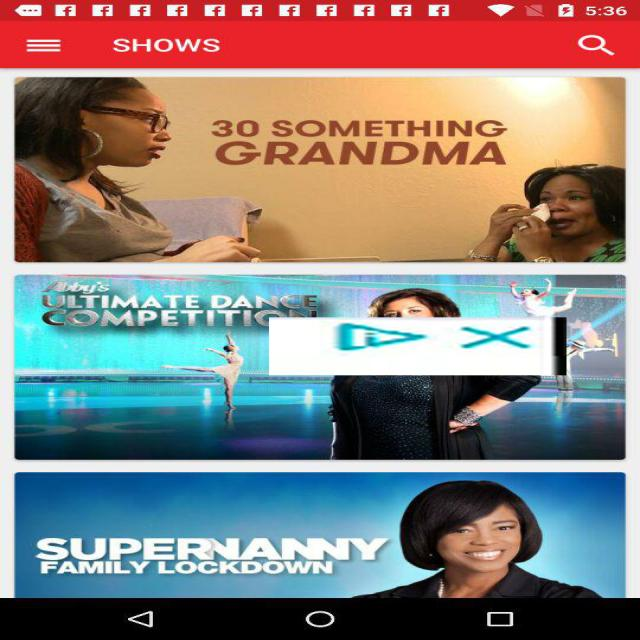sneaking: (269, 318, 567, 376)
